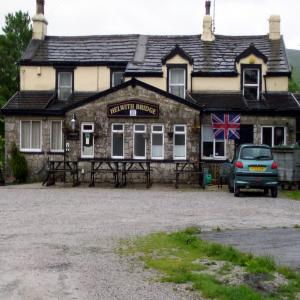Vehicle-registration-plate: (251, 166, 265, 172)
